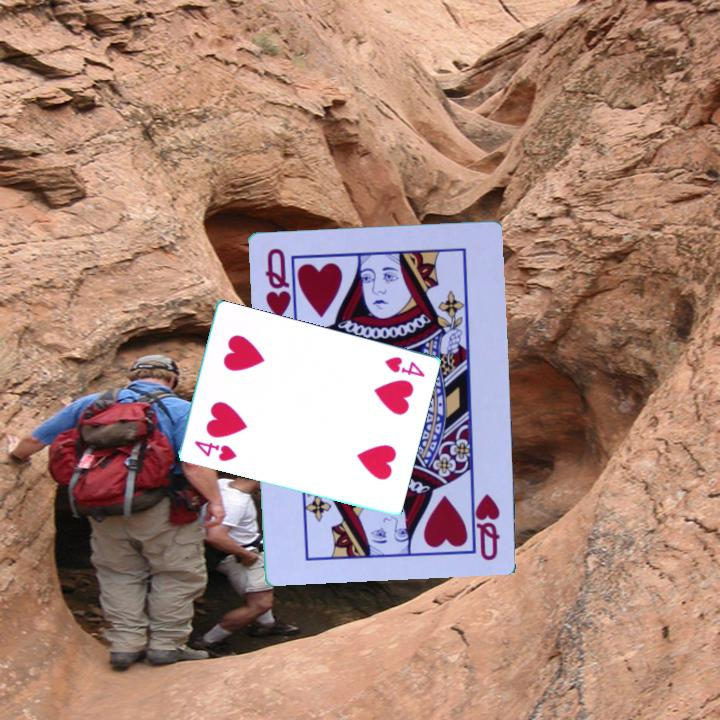4h: (190, 437, 239, 465), (381, 353, 427, 380)
Qh: (261, 244, 294, 321), (471, 489, 503, 563)
